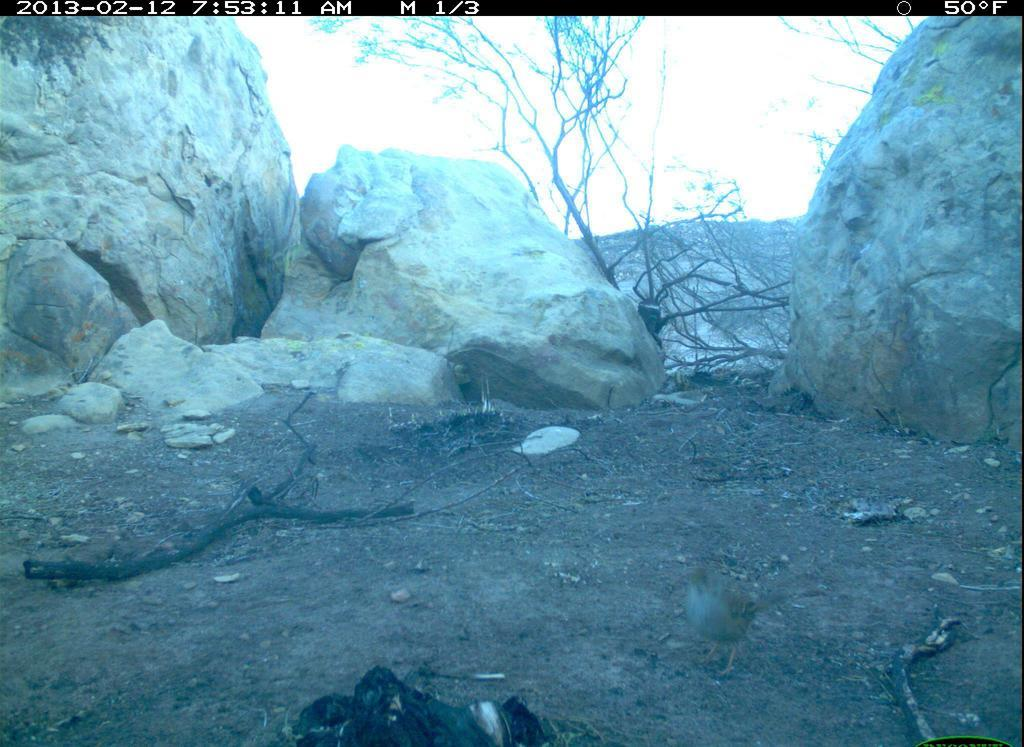bird: (674, 556, 790, 671)
